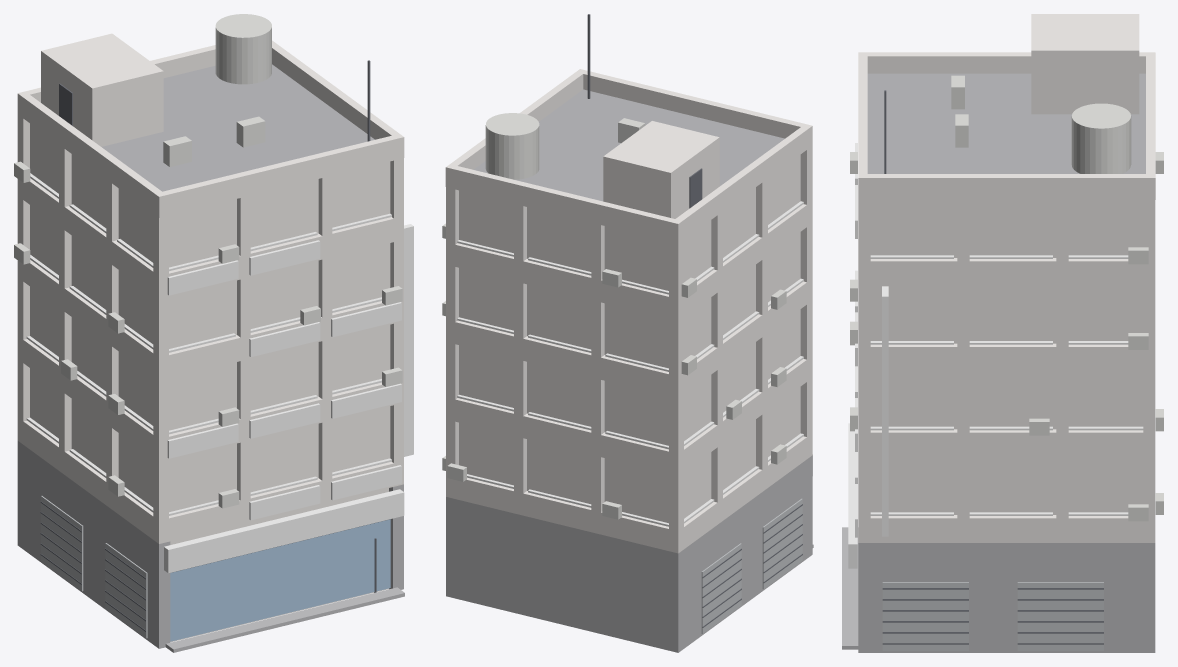
File: bldg_2.glb
3 renders of one model, left to right at view 1: azimuth 30°, elevation 25°; view 2: azimuth 150°, elevation 25°; view 3: azimuth 270°, elevation 25°, orthographic. The views are drawn at different scales.
Visible parts, largest first — view 1: building; view 2: building; view 3: building.
Part boxes in pixels (<box>): building: <box>14,14,413,652</box>; building: <box>442,14,813,652</box>; building: <box>842,14,1163,652</box>.
Bounding box in the file's own units: 12.26 × 22.5 × 11.91.
